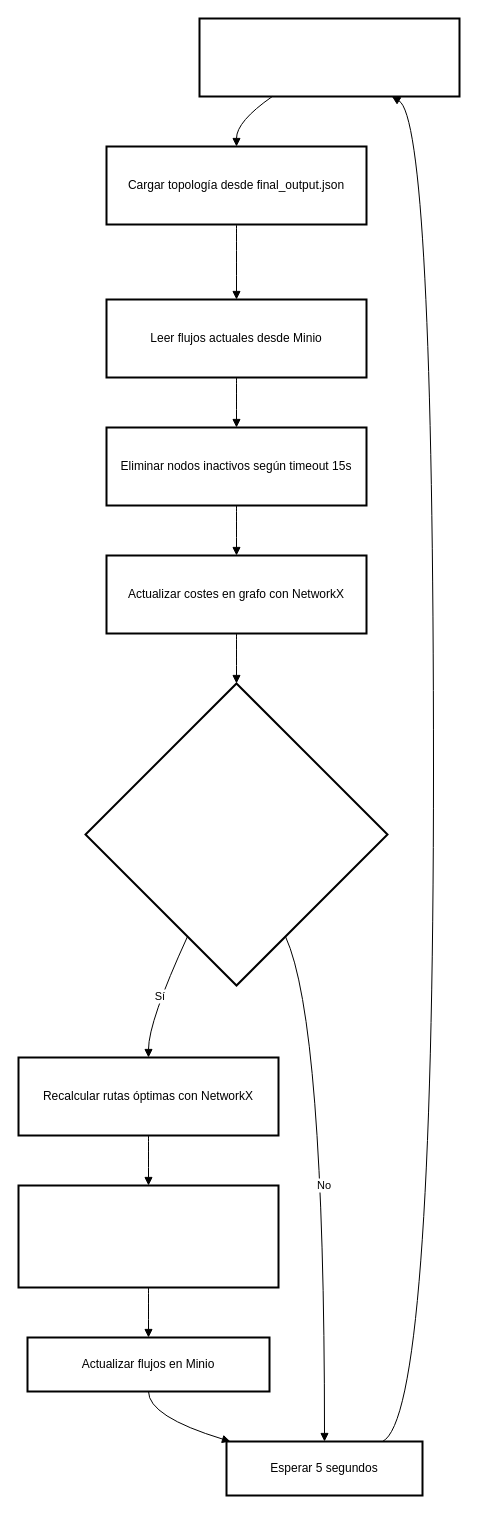
The diagram is 477 pixels wide and 1513 high, and some of its shapes have lost their labels. Each missing label, with the centre of its shape:
"Ejecutar tunnelmaker.py para aplicar rutas actualizadas" goes at point 148,1236.
"Inicio bucle cálculo de rutas cada 5s" goes at point 329,57.
"¿Hay flujos sin ruta o afectados por routers caídos?" goes at point 236,834.
